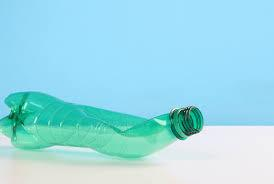plastic: (11, 88, 198, 160)
